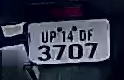0: (68, 43, 84, 60)
1: (60, 30, 67, 43)
3: (37, 44, 52, 62)
4: (67, 29, 74, 43)
7: (52, 44, 66, 61), (85, 42, 99, 59)
D: (78, 28, 88, 41)
F: (85, 28, 95, 40)
P: (49, 30, 57, 44)
U: (40, 29, 50, 43)
